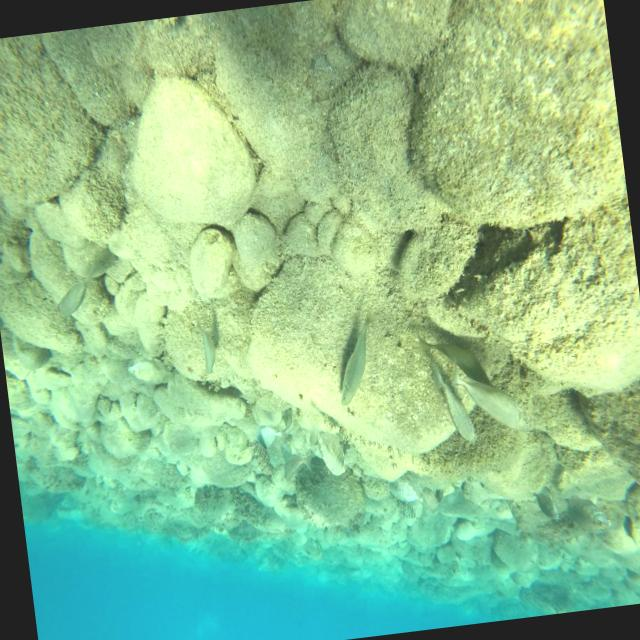Sokar Baligi: (318, 302, 387, 414), (417, 345, 482, 457)
